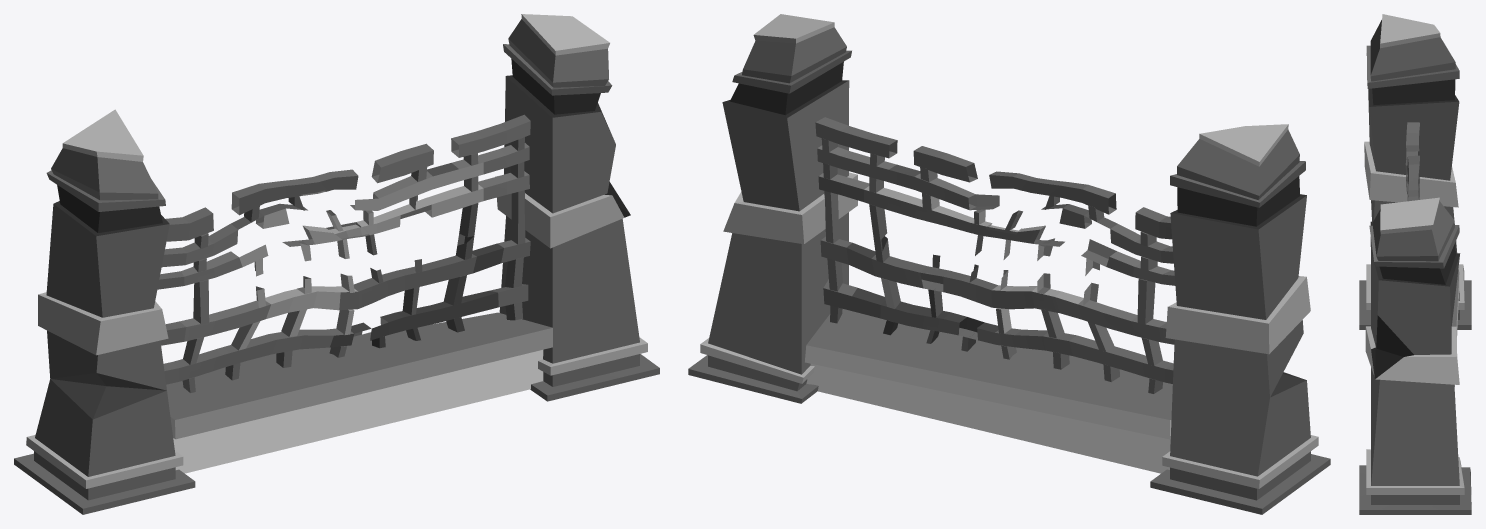
File: Fence-1.fbx
3 views of the same model, side by side, from view 1: azimuth 30°, elevation 25°; view 2: azimuth 150°, elevation 25°; view 3: azimuth 270°, elevation 25° (orthographic). The views are drawn at different scales.
Visible parts, largest first — view 1: Fence_1; view 2: Fence_1; view 3: Fence_1.
Boxes of the visible parts, bbox=[...] form: Fence_1: bbox=[14, 14, 659, 514]; Fence_1: bbox=[688, 14, 1330, 514]; Fence_1: bbox=[1359, 14, 1471, 514].
Bounding box in the file's own units: 1321 × 769 × 273.
Materials: 1 (1 with a texture image).
